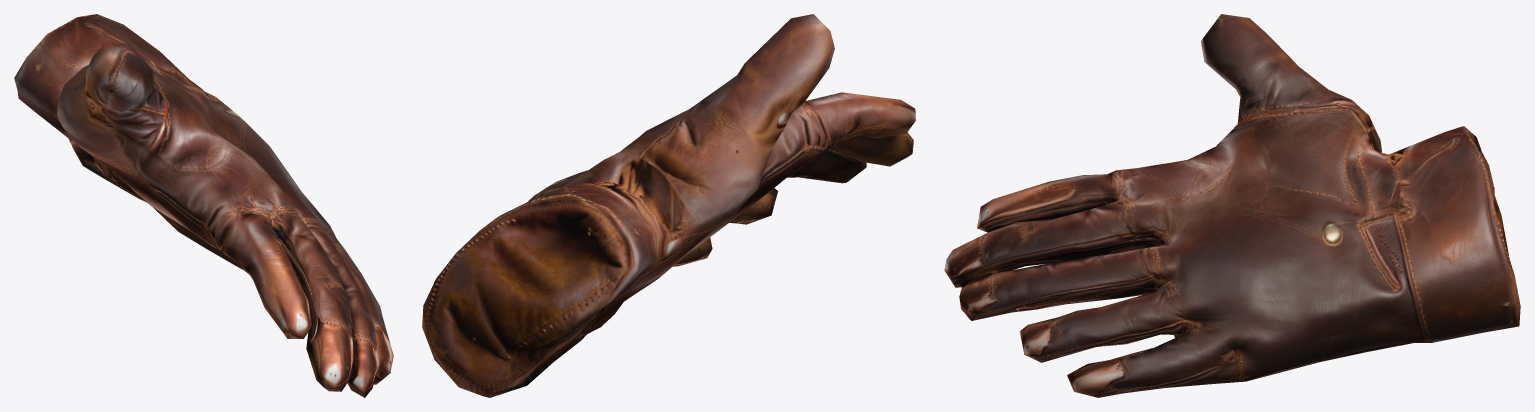
3 views of the same model, side by side, from view 1: azimuth 30°, elevation 25°; view 2: azimuth 150°, elevation 25°; view 3: azimuth 270°, elevation 25° (orthographic). The views are drawn at different scales.
Visible parts, largest first — view 1: Mesh1.0; view 2: Mesh1.0; view 3: Mesh1.0.
Part boxes in pixels (x1,y1,x2,y2): Mesh1.0: (14,14,393,397); Mesh1.0: (422,14,915,397); Mesh1.0: (944,14,1520,397).
Size of the model in its own units: 92.15 by 115 by 201.
Materials: 1 (1 with a texture image).
